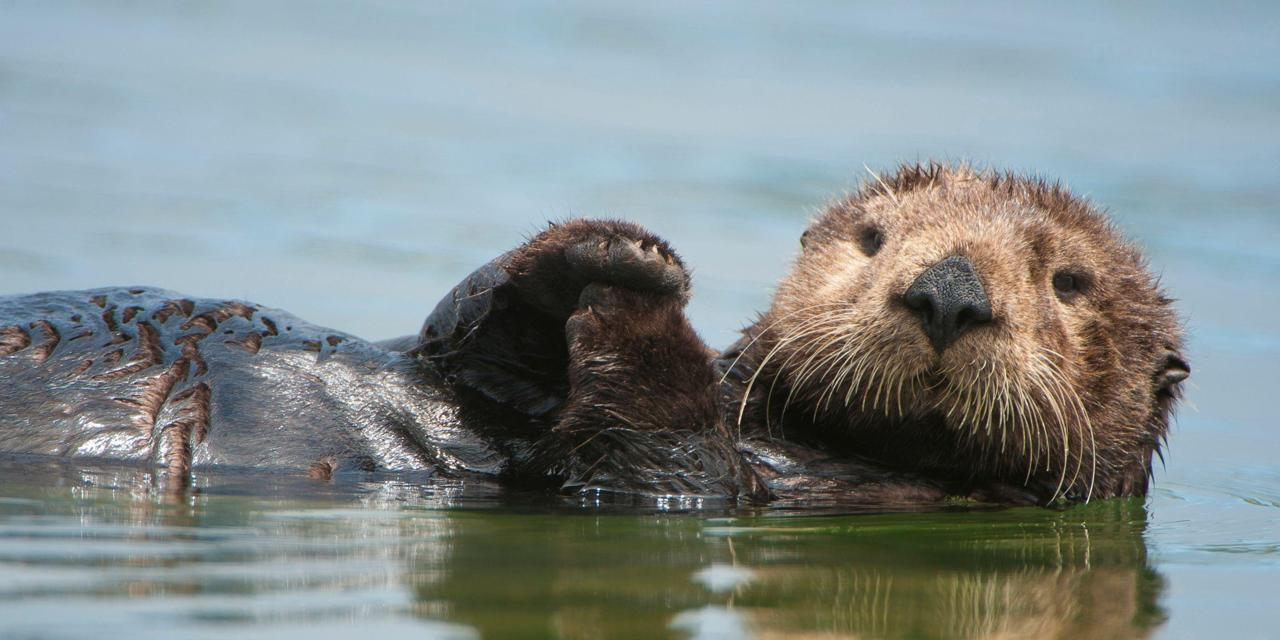meerkat: (3, 121, 1214, 570)
